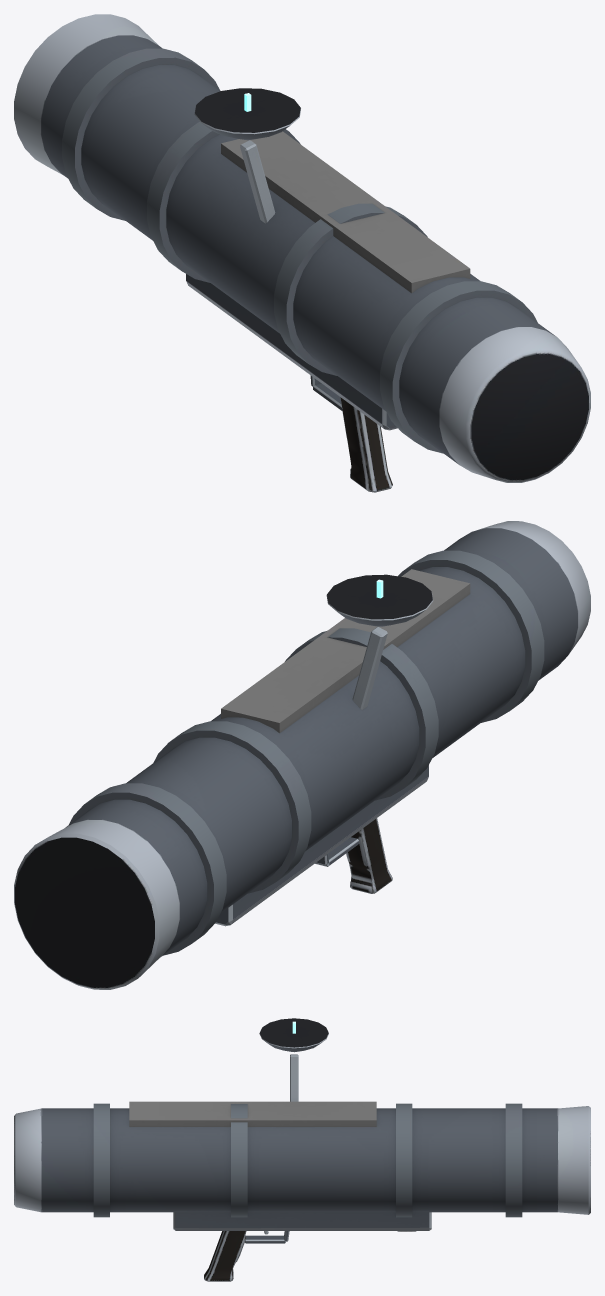
The picture shows the model from 3 angles, top to bottom: view 1: azimuth 30°, elevation 25°; view 2: azimuth 150°, elevation 25°; view 3: azimuth 270°, elevation 25°; orthographic projection. The views are drawn at different scales.
Visible parts, largest first — view 1: body; view 2: body; view 3: body.
Part boxes in pixels (x1,y1,x2,y2): body: (14, 14, 590, 492); body: (14, 521, 590, 989); body: (14, 1018, 590, 1281).
Size of the model in its own units: 0.2569 by 0.471 by 1.05.
1 material, 1 textured.
